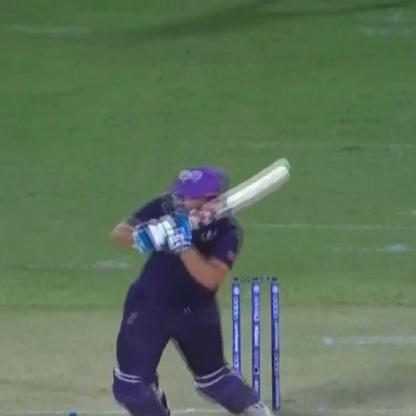bat: (160, 149, 291, 247)
